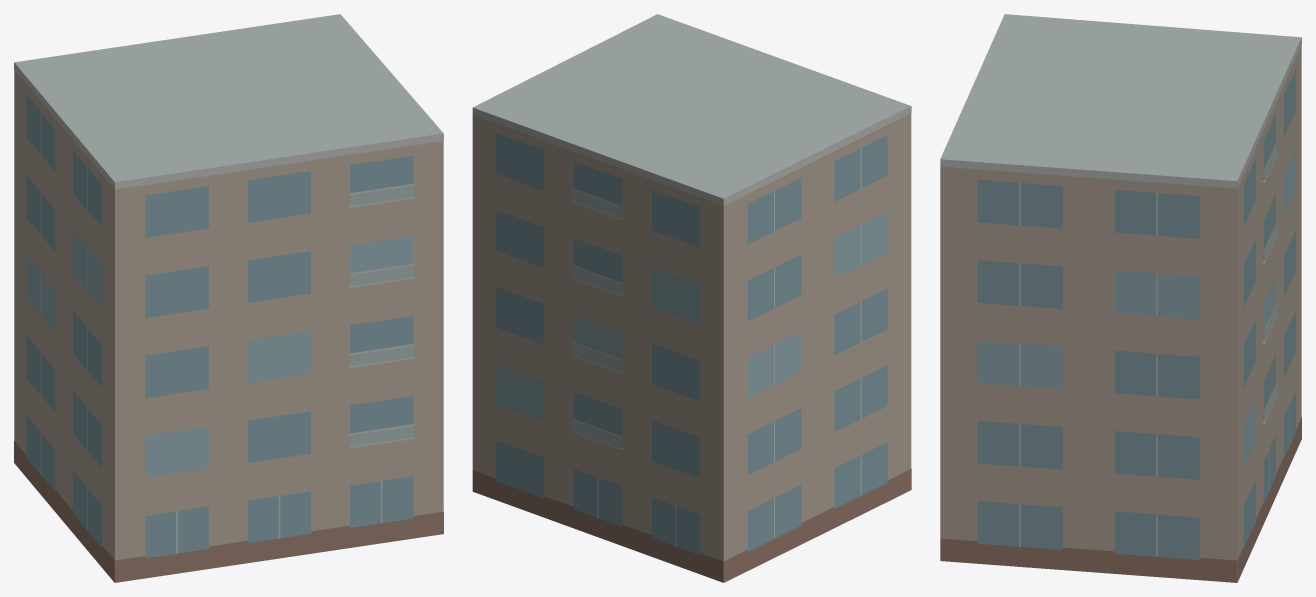
The model's file is survey-upis-32702608.glb.
3 views of the same model, side by side, from view 1: azimuth 30°, elevation 25°; view 2: azimuth 150°, elevation 25°; view 3: azimuth 270°, elevation 25° (orthographic). The views are drawn at different scales.
Parts seen in each view (by area): view 1: survey-upis-32702608.tmp; view 2: survey-upis-32702608.tmp; view 3: survey-upis-32702608.tmp.
Part boxes in pixels (<box>): survey-upis-32702608.tmp: <box>14,14,443,582</box>; survey-upis-32702608.tmp: <box>472,14,911,582</box>; survey-upis-32702608.tmp: <box>940,14,1301,582</box>.
Bounding box in the file's own units: 11.79 × 13.2 × 10.78.
